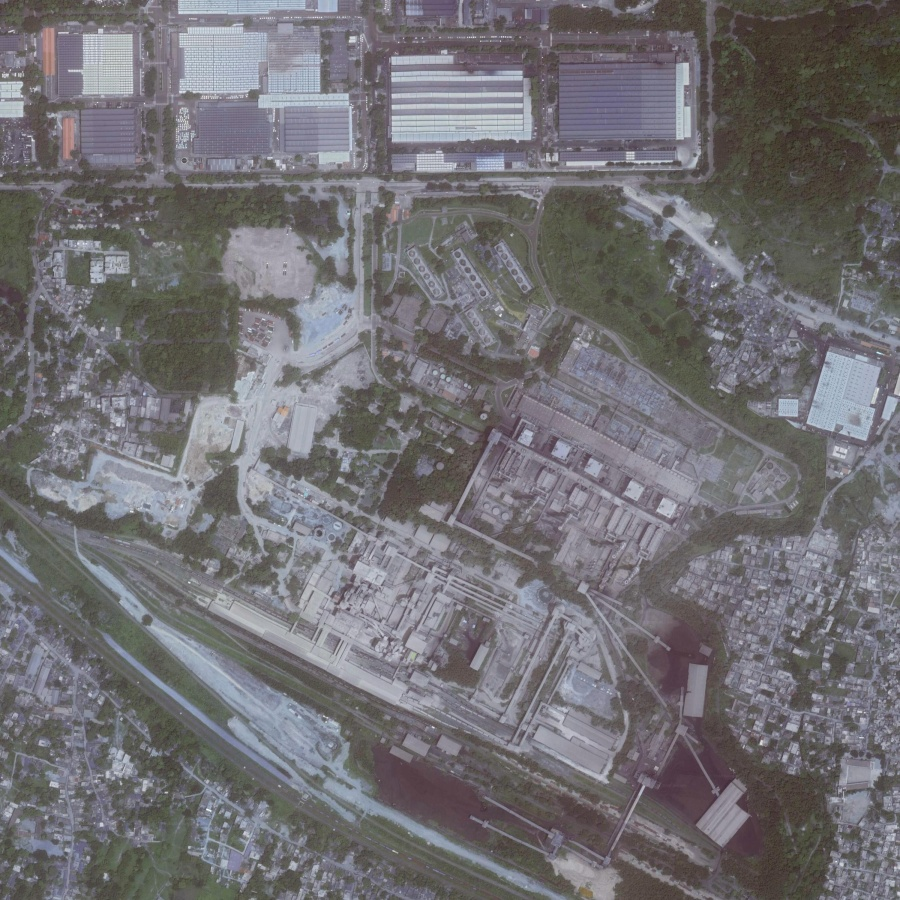PowerPlant: (293, 407, 799, 866)
